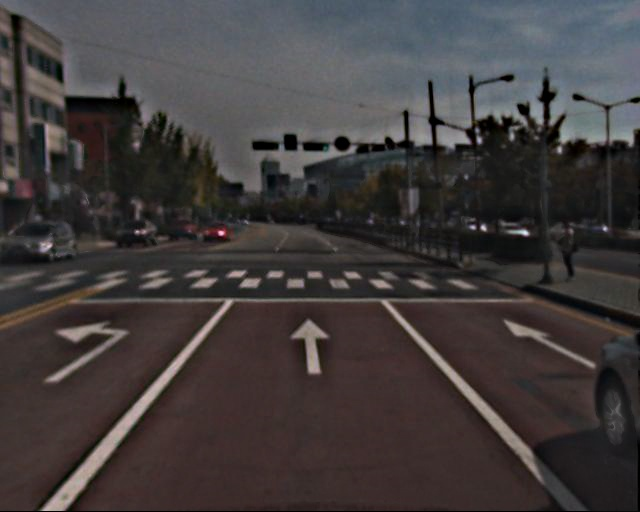person: (550, 218, 578, 282)
